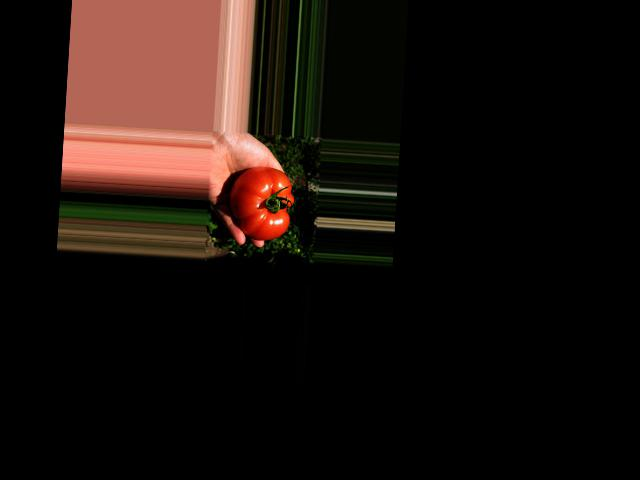tomato: (227, 165, 295, 242)
